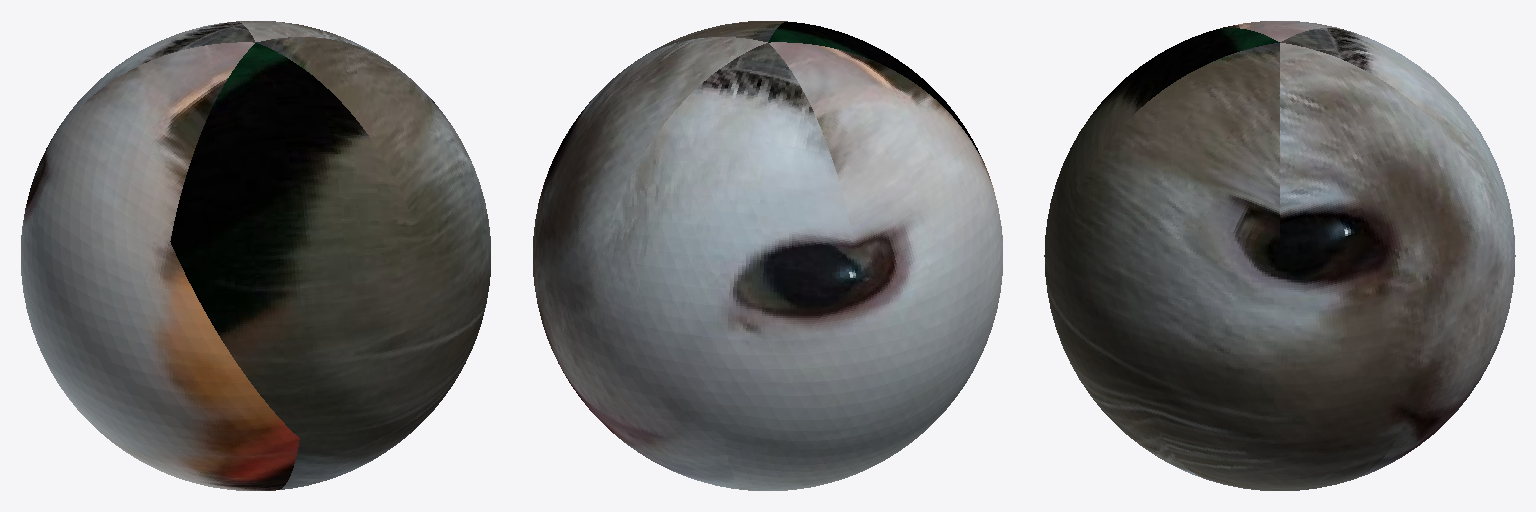
3 views of the same model, side by side, from view 1: azimuth 30°, elevation 25°; view 2: azimuth 150°, elevation 25°; view 3: azimuth 270°, elevation 25° (orthographic).
Parts seen in each view (by area): view 1: Icosphere; view 2: Icosphere; view 3: Icosphere.
Part boxes in pixels (x1,y1,x2,y2): Icosphere: (21, 21, 490, 490); Icosphere: (533, 21, 1002, 490); Icosphere: (1044, 21, 1515, 490).
Bounding box in the file's own units: 2 × 2 × 2.
1 materials, 1 textured.